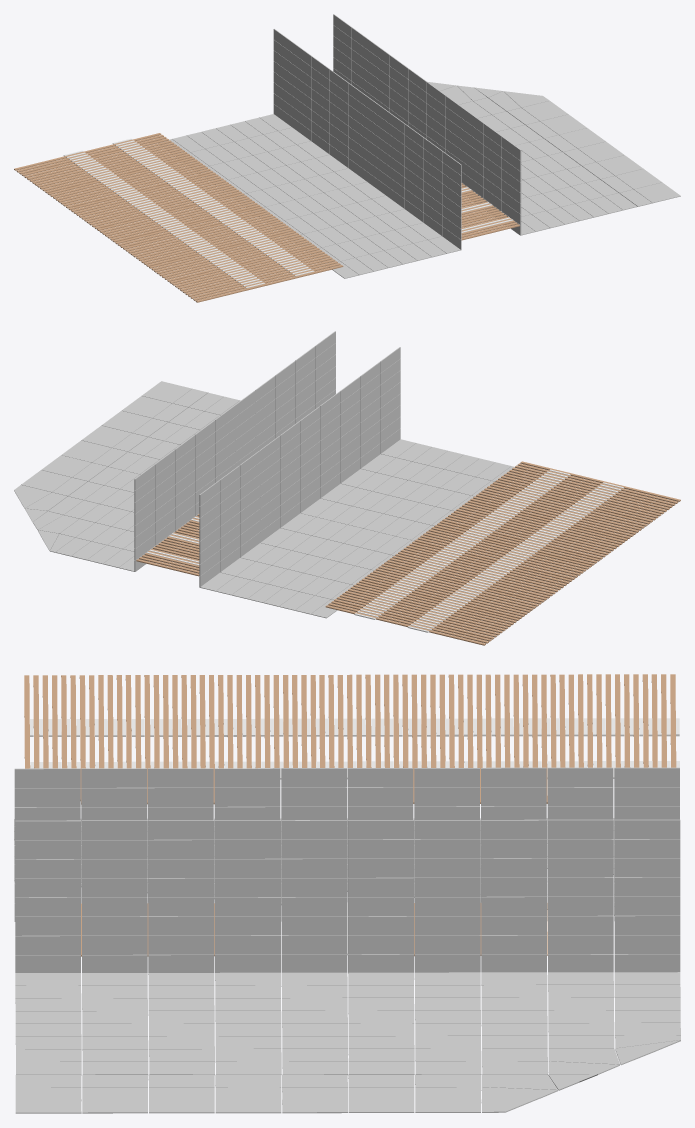
File: Sealing.fbx
The picture shows the model from 3 angles, top to bottom: view 1: azimuth 30°, elevation 25°; view 2: azimuth 150°, elevation 25°; view 3: azimuth 270°, elevation 25°; orthographic projection. The views are drawn at different scales.
Parts seen in each view (by area): view 1: sv-408; view 2: sv-408; view 3: sv-408.
Part boxes in pixels (left/top/right/bottom): sv-408: left=14, top=14, right=680, bottom=302; sv-408: left=14, top=331, right=680, bottom=645; sv-408: left=14, top=674, right=680, bottom=1113.
Bounding box in the file's own units: 9173 × 1554 × 6145.
